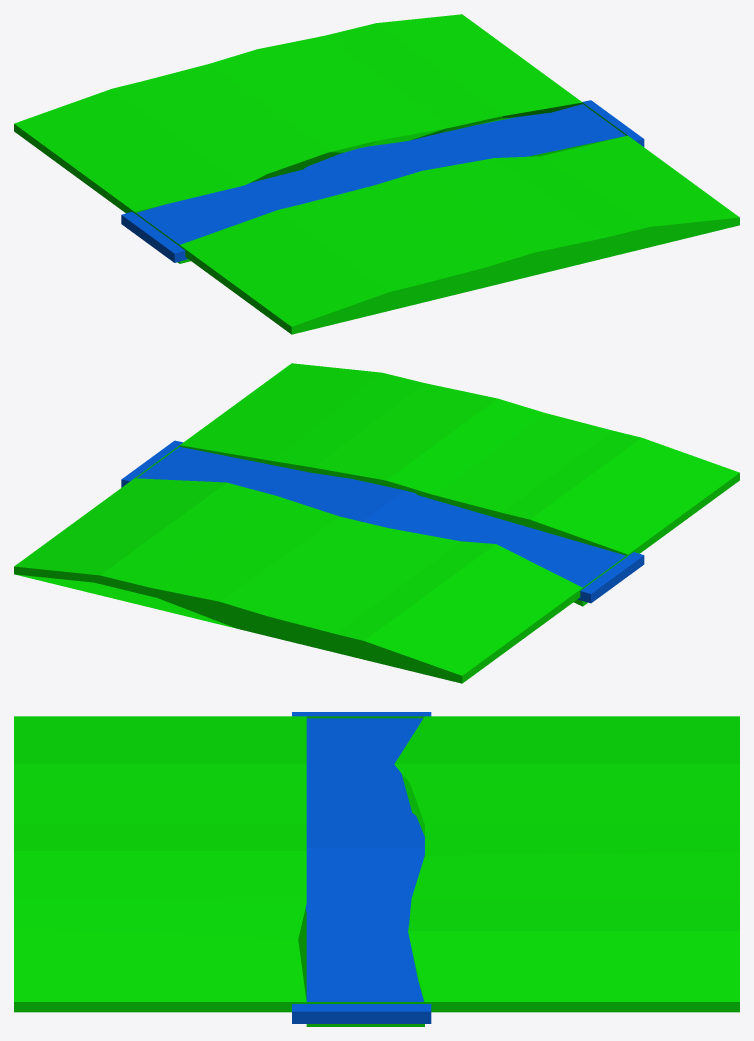
File: Suelo2_ToniAguilar.fbx
3 views of the same model, one above another, from view 1: azimuth 30°, elevation 25°; view 2: azimuth 150°, elevation 25°; view 3: azimuth 270°, elevation 25° (orthographic). The views are drawn at different scales.
Visible parts, largest first — view 1: Cube.003; view 2: Cube.003; view 3: Cube.003.
Boxes of the visible parts, box(x1,y1,x2,y2) form: Cube.003: box(14, 14, 739, 334); Cube.003: box(14, 363, 739, 683); Cube.003: box(14, 712, 739, 1026).
Bounding box in the file's own units: 10524 × 866 × 10777.
